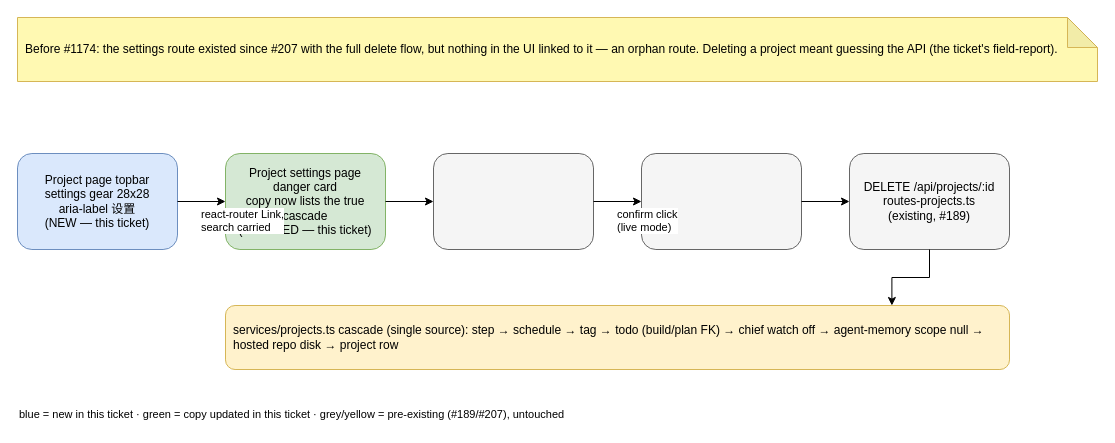
The diagram is 1115 pixels wide and 443 high, and some of its shapes have lost their labels. Each missing label, with the centre of its shape:
deleteProject mutation api/hooks.ts (existing, #189): point (721, 201)
DeleteProjectConfirm type-name-to-unlock gate (existing, #207): point (513, 201)
